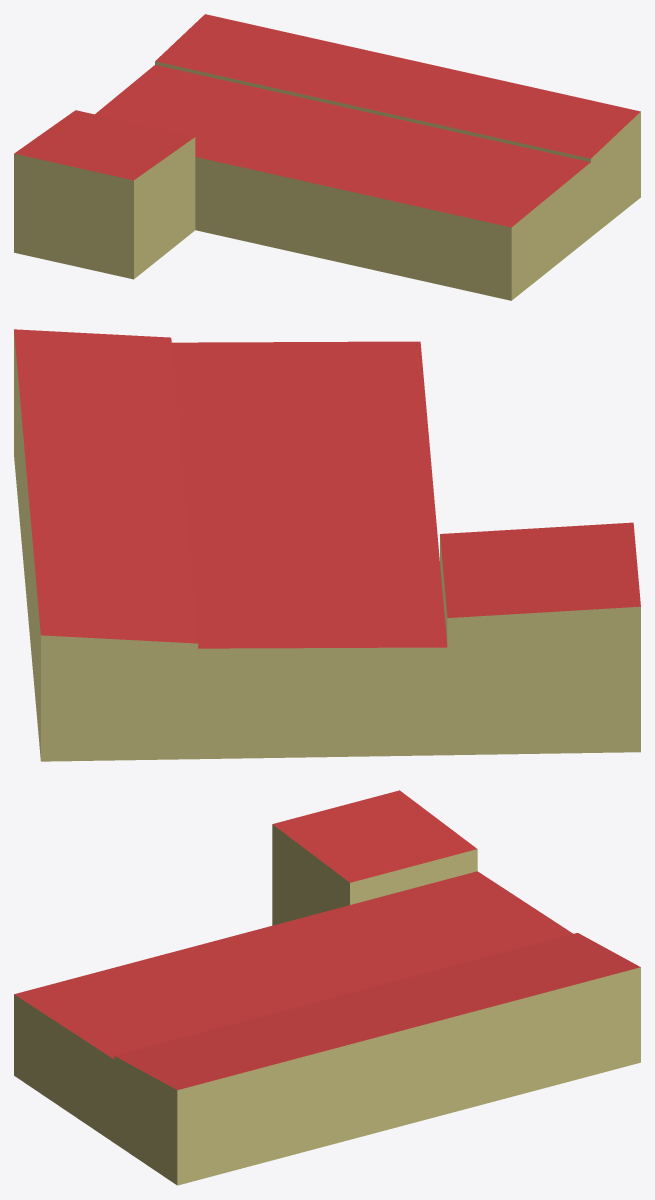
3 views of the same model, one above another, from view 1: azimuth 30°, elevation 25°; view 2: azimuth 150°, elevation 25°; view 3: azimuth 270°, elevation 25° (orthographic). The views are drawn at different scales.
Size of the model in its own units: 41.89 by 38.9 by 7.53.
